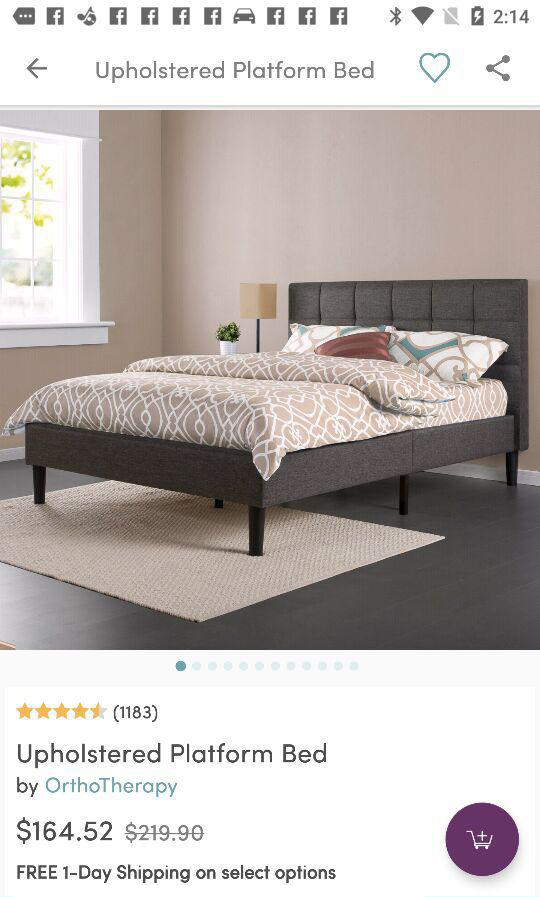Icon: (445, 802, 520, 877), (16, 701, 109, 720), (419, 53, 451, 84), (486, 55, 511, 82), (27, 58, 48, 80)
Image: (1, 106, 540, 651)
PageIndicator: (175, 660, 361, 673)
Text: (18, 742, 327, 769), (96, 61, 375, 85), (17, 864, 337, 884), (16, 776, 179, 798), (17, 816, 114, 845), (124, 820, 206, 844), (114, 704, 159, 723)
Toolbar: (1, 36, 540, 106)
UpperTaskBar: (1, 1, 540, 33)
